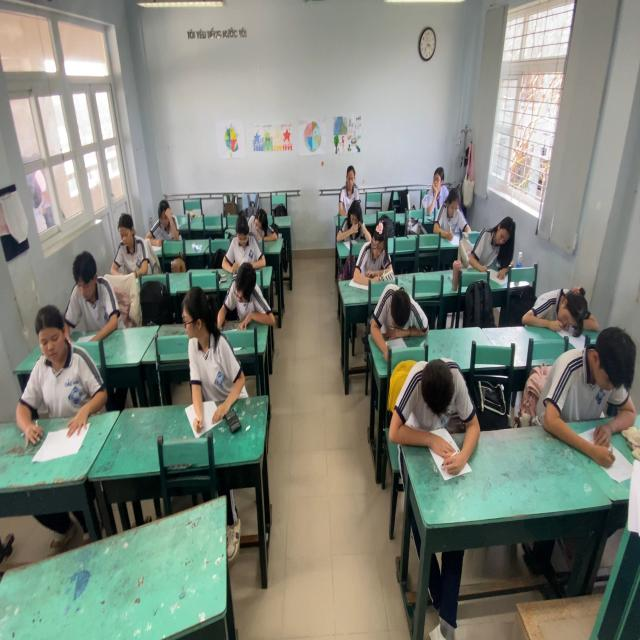cheating: (170, 285, 240, 422), (420, 158, 452, 214)
not_cheating: (555, 308, 625, 468), (401, 345, 468, 485), (28, 299, 95, 432), (63, 247, 117, 341), (531, 268, 593, 346), (102, 202, 150, 294), (467, 208, 514, 284), (220, 254, 265, 333), (376, 276, 420, 350), (352, 220, 396, 292), (220, 208, 265, 268), (330, 158, 370, 212), (434, 180, 471, 235), (148, 184, 178, 244), (338, 194, 363, 238), (246, 200, 269, 243)
